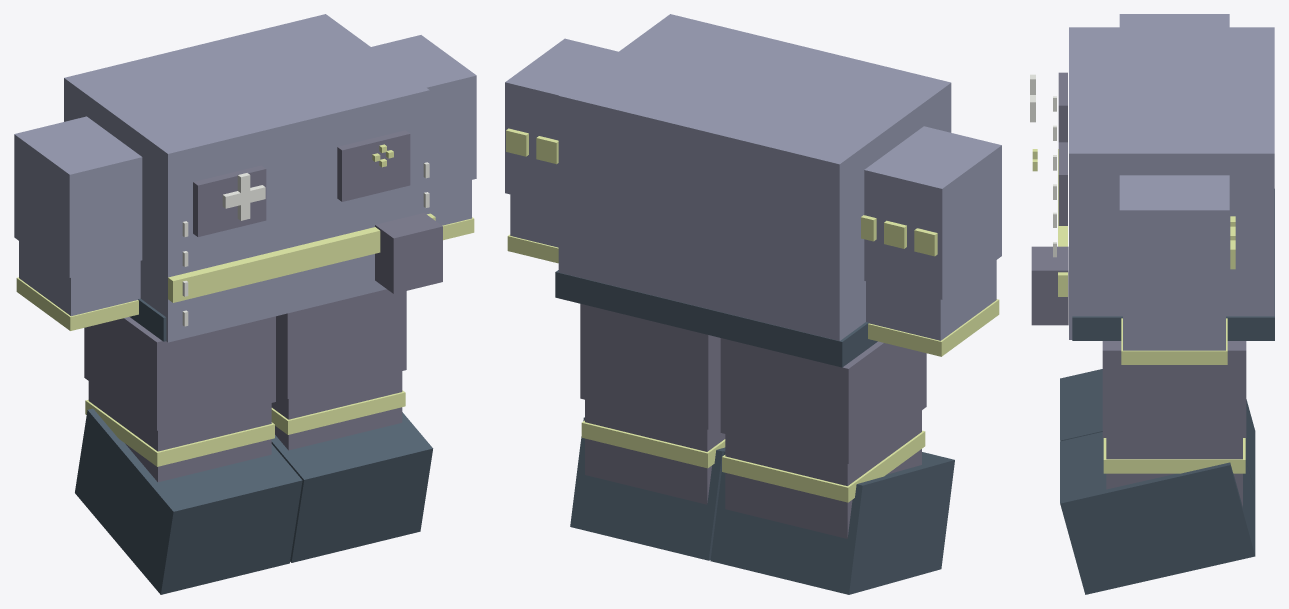
The model's file is paramedic-lavender.glb.
The picture shows the model from 3 angles, left to right: view 1: azimuth 30°, elevation 25°; view 2: azimuth 150°, elevation 25°; view 3: azimuth 270°, elevation 25°; orthographic projection. The views are drawn at different scales.
Visible parts, largest first — view 1: jacket, shoe-Right, upper-sleeve-Right, trouser-Right, shoe-Left, trouser-Left, upper-sleeve-Left, lower-trouser-Right, reflective-band, lower-trouser-Left, lower-sleeve-Right, medical-pouch (+8 smaller); view 2: jacket, trouser-Right, shoe-Right, upper-sleeve-Right, trouser-Left, lower-trouser-Right, shoe-Left, medical-belt, upper-sleeve-Left, lower-trouser-Left, lower-sleeve-Right, reflective-leg-Right (+4 smaller); view 3: jacket, shoe-Left, upper-sleeve-Left, trouser-Left, lower-sleeve-Left, lower-trouser-Left, shoe-Right, medical-pouch, medical-belt, reflective-leg-Left, cuff-Left, upper-sleeve-Right (+3 smaller).
Boxes of the visible parts, x1=… form: jacket: x1=64, y1=14, x2=429, y2=342; shoe-Right: x1=75, y1=408, x2=302, y2=594; upper-sleeve-Right: x1=14, y1=116, x2=142, y2=277; trouser-Right: x1=84, y1=316, x2=275, y2=430; shoe-Left: x1=271, y1=412, x2=433, y2=562; trouser-Left: x1=276, y1=289, x2=406, y2=398; upper-sleeve-Left: x1=371, y1=35, x2=476, y2=189; lower-trouser-Right: x1=88, y1=381, x2=271, y2=482; reflective-band: x1=168, y1=213, x2=435, y2=302; lower-trouser-Left: x1=271, y1=371, x2=402, y2=450; lower-sleeve-Right: x1=19, y1=241, x2=140, y2=316; medical-pouch: x1=375, y1=213, x2=442, y2=293; jacket: x1=558, y1=14, x2=951, y2=340; trouser-Right: x1=720, y1=338, x2=926, y2=463; shoe-Right: x1=710, y1=451, x2=954, y2=594; upper-sleeve-Right: x1=864, y1=126, x2=1001, y2=299; trouser-Left: x1=580, y1=304, x2=720, y2=429; lower-trouser-Right: x1=725, y1=410, x2=921, y2=538; shoe-Left: x1=570, y1=417, x2=725, y2=560; medical-belt: x1=555, y1=270, x2=877, y2=367; upper-sleeve-Left: x1=505, y1=38, x2=618, y2=205; lower-trouser-Left: x1=585, y1=400, x2=725, y2=504; lower-sleeve-Right: x1=866, y1=260, x2=996, y2=340; reflective-leg-Right: x1=722, y1=430, x2=925, y2=502; jacket: x1=1069, y1=27, x2=1274, y2=339; shoe-Left: x1=1060, y1=432, x2=1255, y2=594; upper-sleeve-Left: x1=1119, y1=175, x2=1229, y2=312; trouser-Left: x1=1102, y1=341, x2=1246, y2=437; lower-sleeve-Left: x1=1123, y1=312, x2=1225, y2=350; lower-trouser-Left: x1=1106, y1=438, x2=1242, y2=506; shoe-Right: x1=1060, y1=369, x2=1255, y2=492; medical-pouch: x1=1031, y1=246, x2=1068, y2=325; medical-belt: x1=1072, y1=189, x2=1274, y2=340; reflective-leg-Left: x1=1103, y1=438, x2=1245, y2=473; cuff-Left: x1=1121, y1=318, x2=1227, y2=364; upper-sleeve-Right: x1=1119, y1=14, x2=1229, y2=27.
Bounding box in the file's own units: 1.07 × 1.13 × 0.566.
